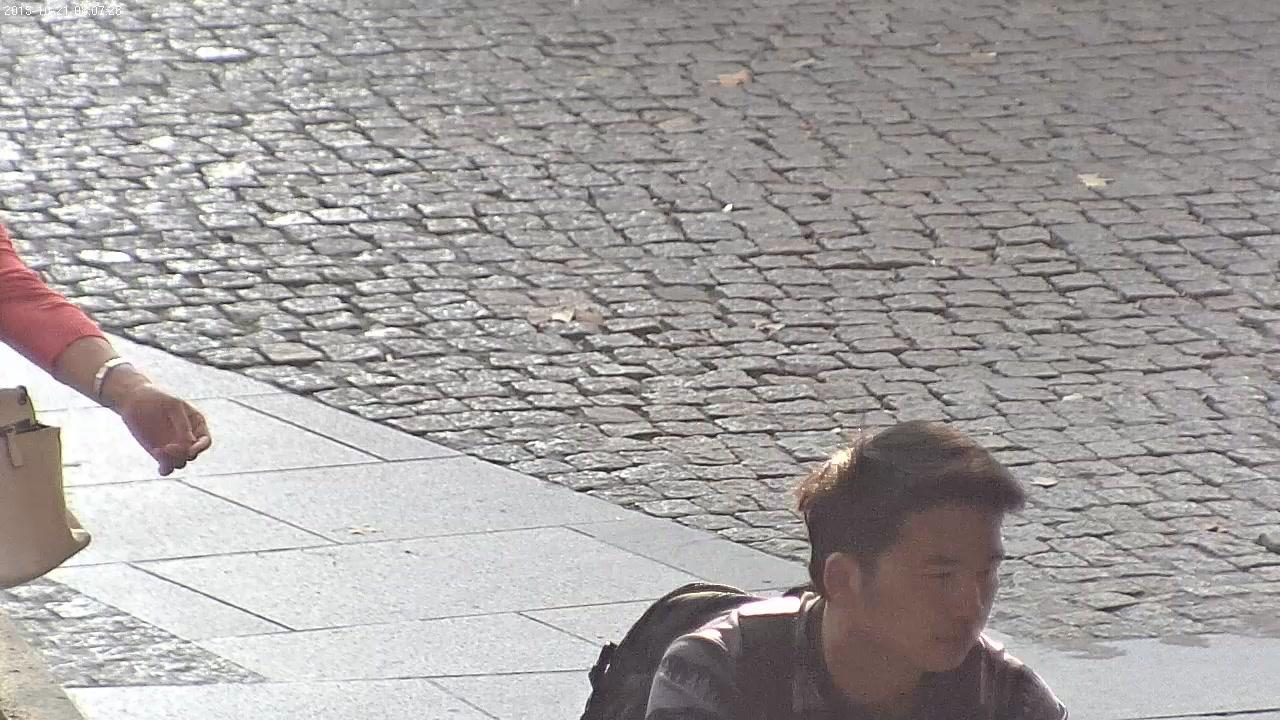face: (860, 506, 1003, 673)
